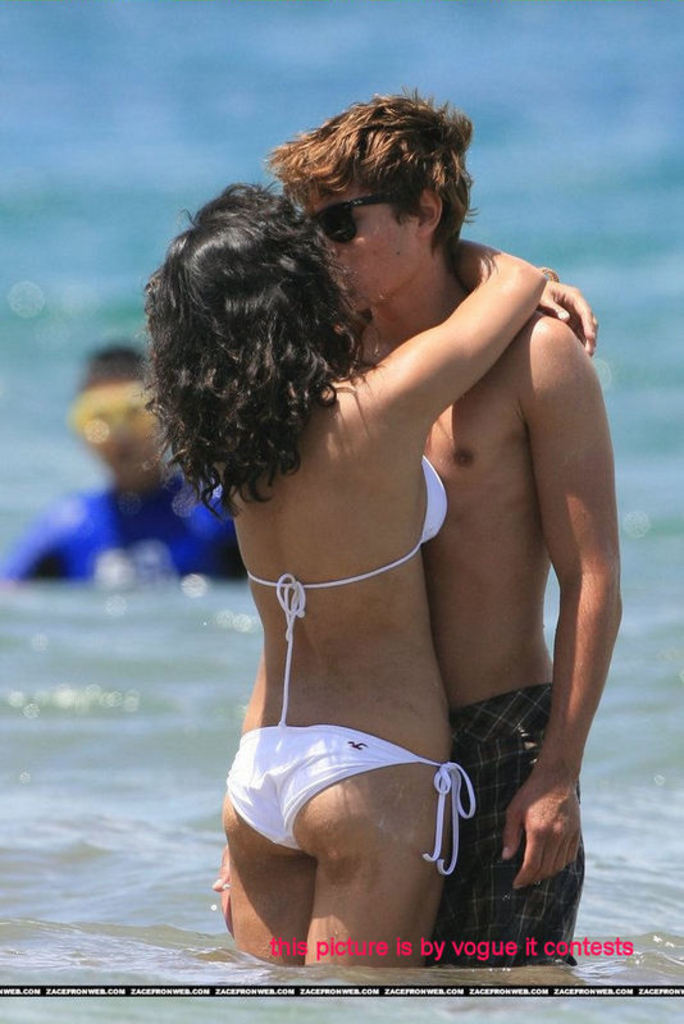person: (1, 336, 242, 589)
